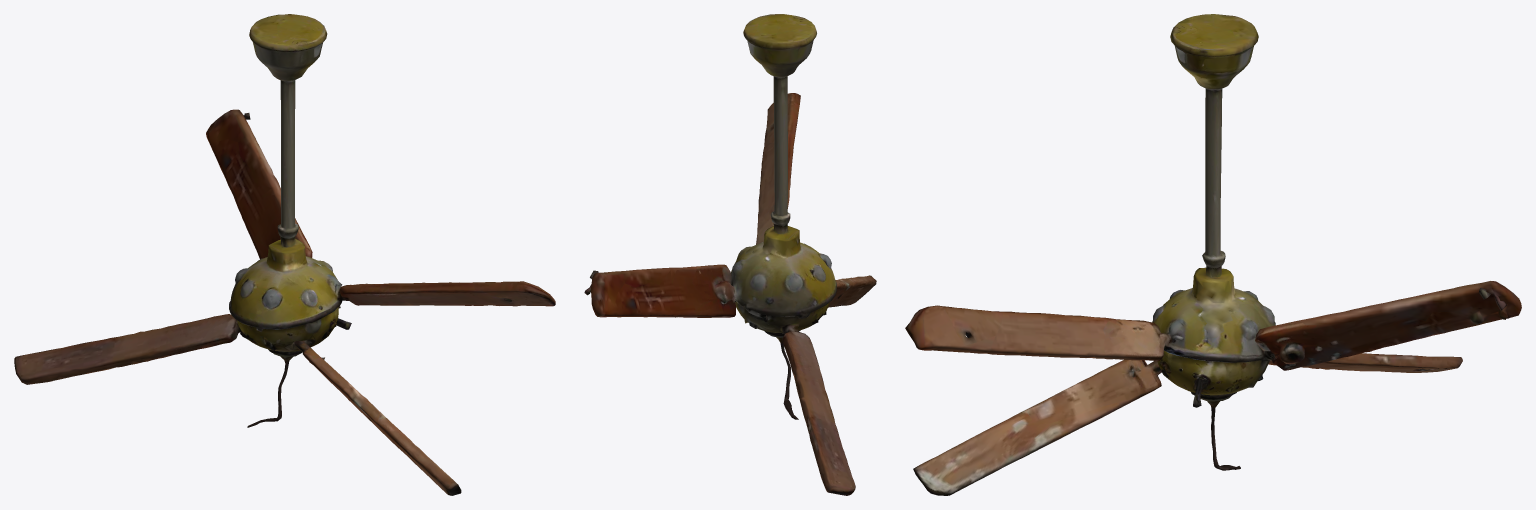
File: st_fan.glb
The picture shows the model from 3 angles, left to right: view 1: azimuth 30°, elevation 25°; view 2: azimuth 150°, elevation 25°; view 3: azimuth 270°, elevation 25°; orthographic projection. The views are drawn at different scales.
Visible parts, largest first — view 1: tripo_node_1f5d4de2-4f1b-4630-b632-f6de3aed6c15; view 2: tripo_node_1f5d4de2-4f1b-4630-b632-f6de3aed6c15; view 3: tripo_node_1f5d4de2-4f1b-4630-b632-f6de3aed6c15.
Part boxes in pixels (x1=…): tripo_node_1f5d4de2-4f1b-4630-b632-f6de3aed6c15: x1=14, y1=14, x2=555, y2=495; tripo_node_1f5d4de2-4f1b-4630-b632-f6de3aed6c15: x1=584, y1=14, x2=876, y2=495; tripo_node_1f5d4de2-4f1b-4630-b632-f6de3aed6c15: x1=905, y1=14, x2=1521, y2=495.
Size of the model in its own units: 0.6634 by 0.8094 by 1.
1 material, 1 textured.
